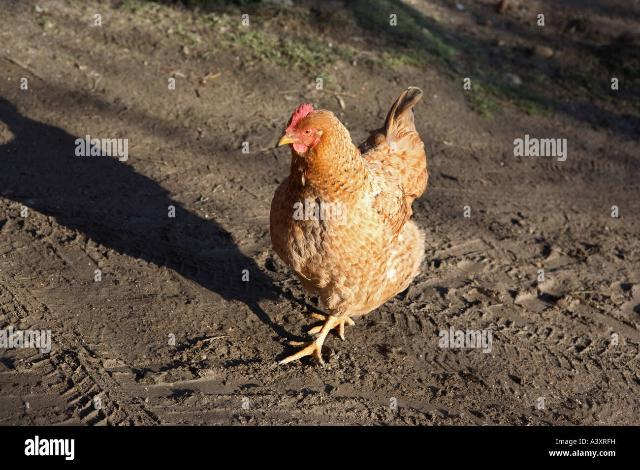Chicken: (270, 84, 428, 365)
